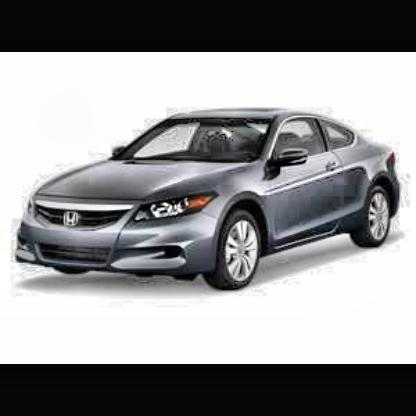Honda Accord Coupe 2012: (15, 110, 401, 294)
